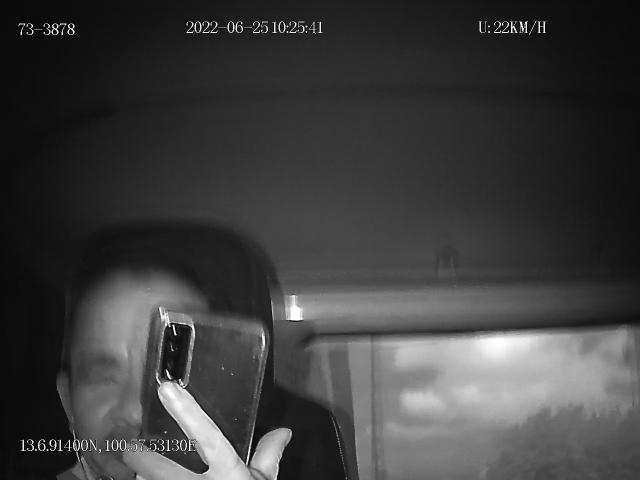Phone: (135, 308, 269, 480)
